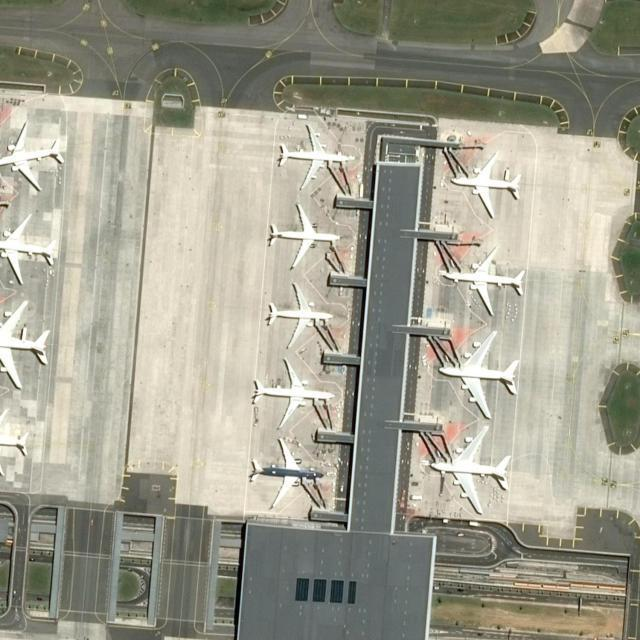Aircraft: (430, 423, 516, 519), (435, 329, 523, 421), (440, 248, 526, 322), (447, 149, 524, 221), (244, 440, 324, 508), (249, 360, 333, 424), (0, 302, 56, 393), (273, 129, 353, 191), (267, 205, 341, 271), (258, 287, 334, 351), (0, 121, 65, 192), (1, 215, 63, 281), (0, 410, 33, 476)
